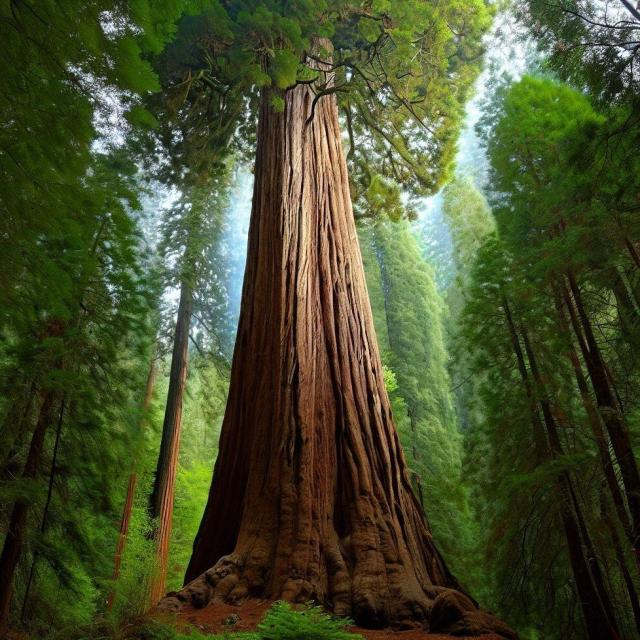Sequoia sempervirens: (148, 0, 491, 626)
